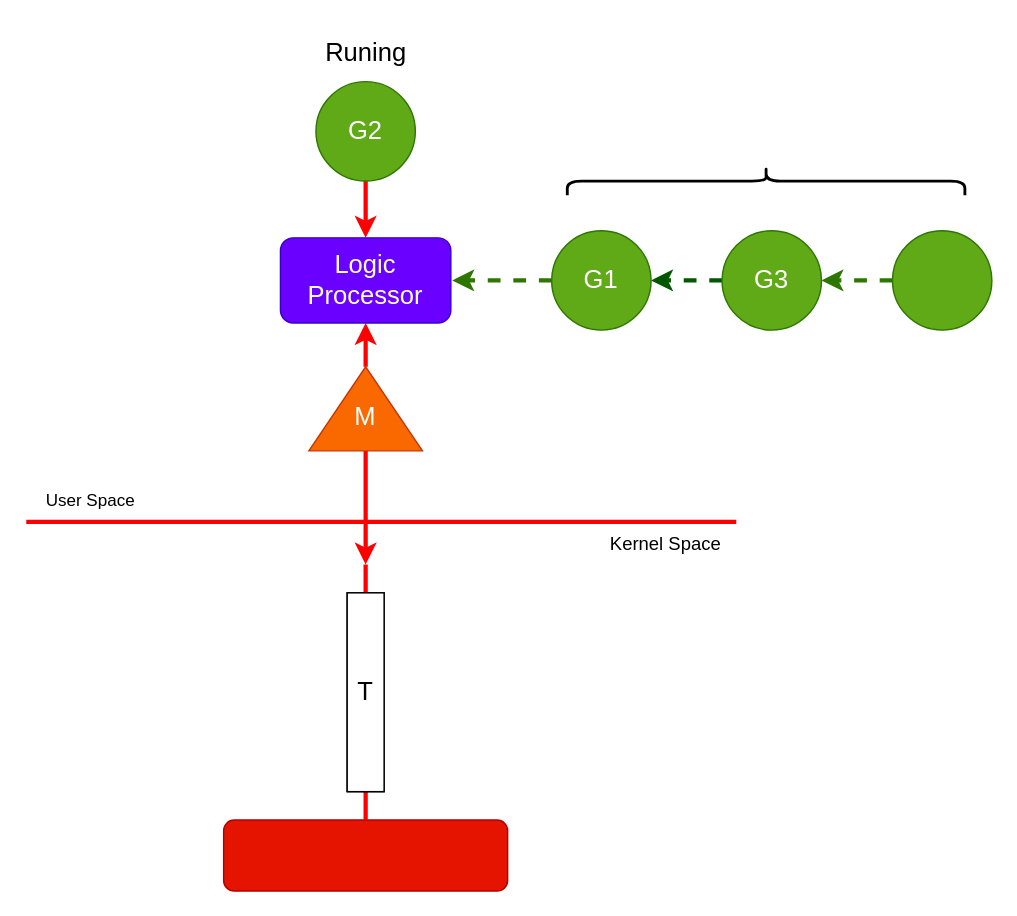
The diagram is 1017 pixels wide and 916 high, and some of its shapes have lost their labels. Each missing label, with the box of its shape:
CPU Scheduler: (222, 819, 508, 891)
G5: (891, 229, 992, 330)
Ready Queue: (565, 165, 966, 196)
